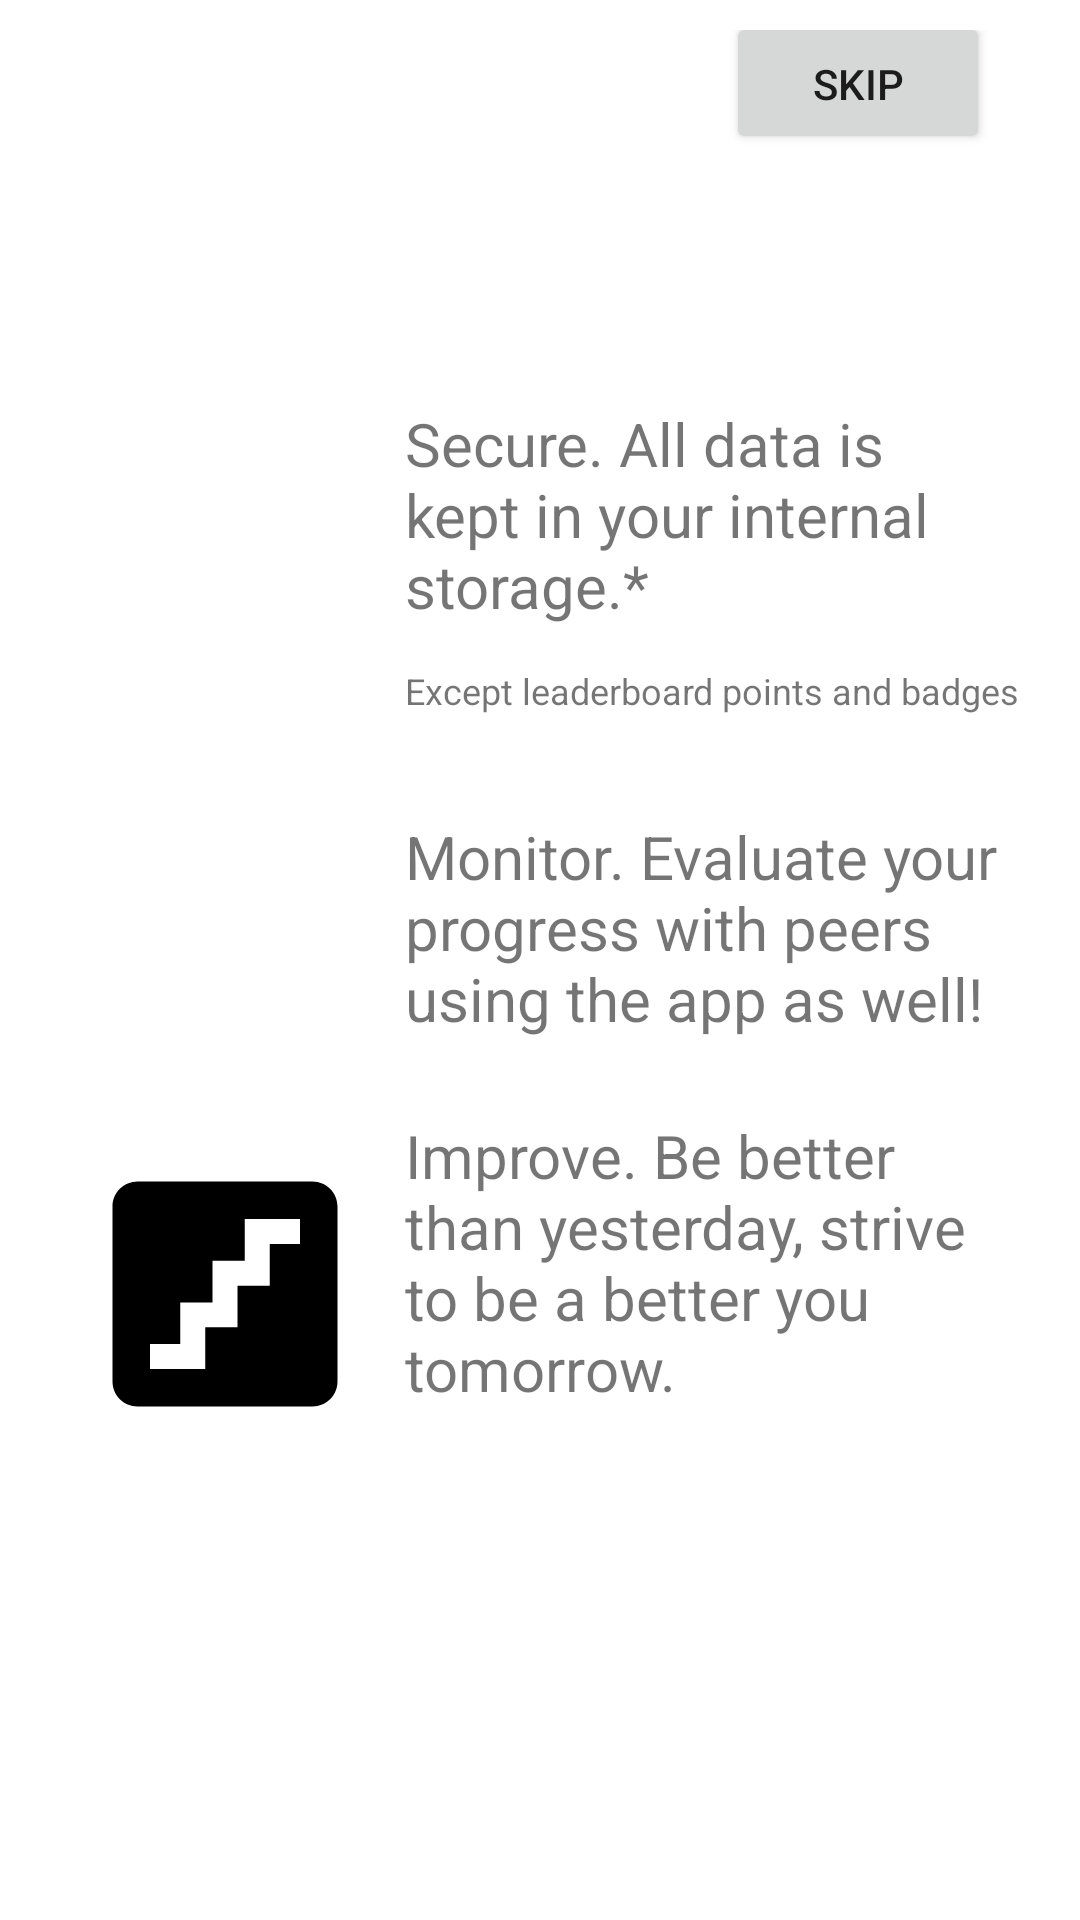

Screen size 1080*1920. Icon name, then its box in pixels as {"left": x1, "top": y1, "right": x2, "bottom": y2}:
stairs: {"left": 112, "top": 1181, "right": 338, "bottom": 1407}
